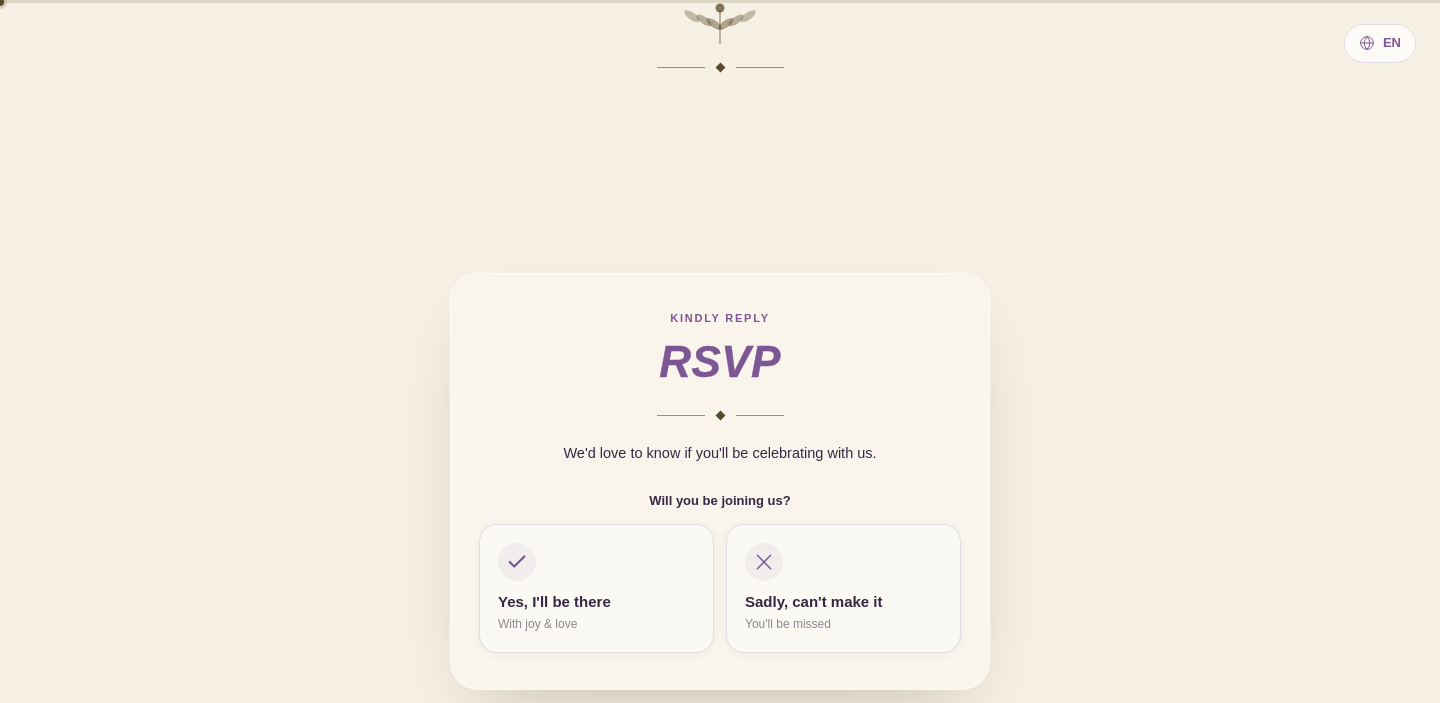
Scenario: the preview renders the real page › surfaces the organizer's own custom question once a guest answers
This screenshot has width=1440, height=703.
(page scrolled)
Click the radio button labelled "Yes, I'll be there With joy & love": (596, 589) [479, 524, 714, 653]
(page scrolled)
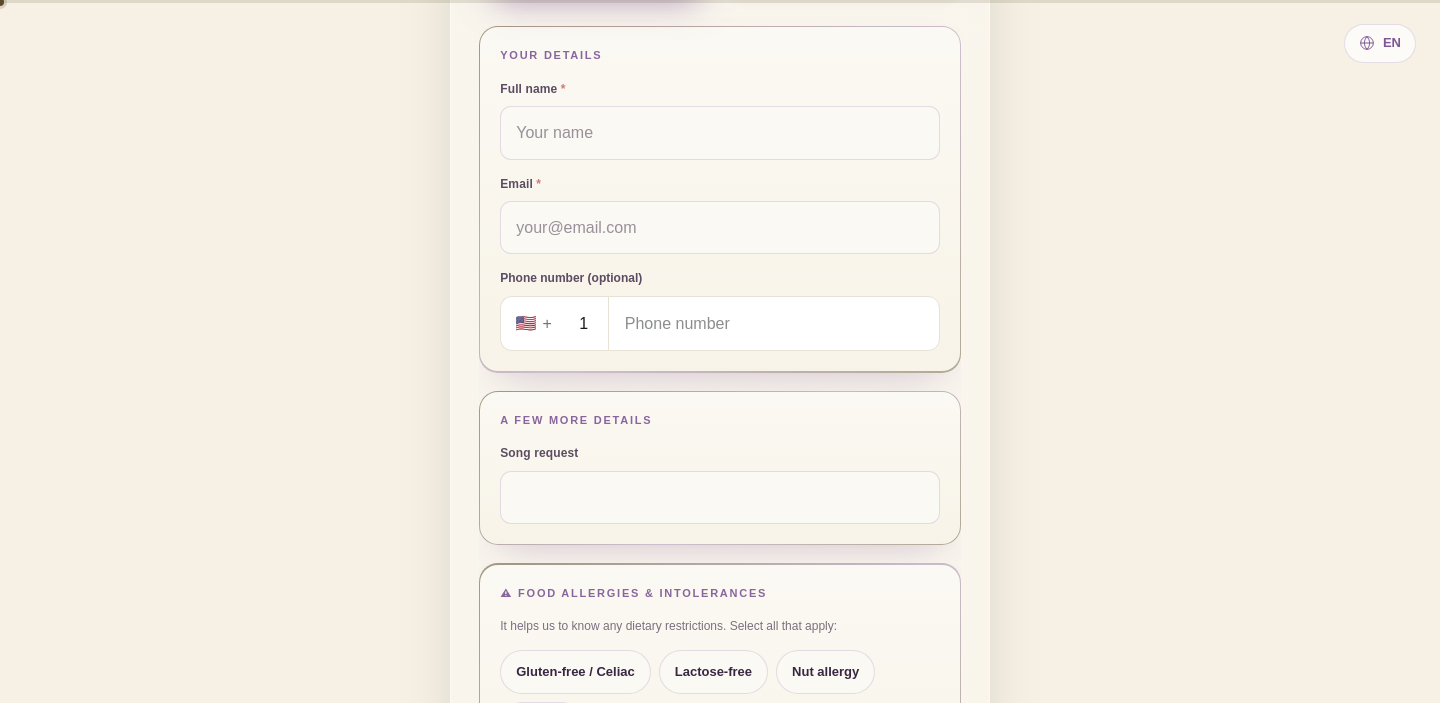
Expected: the text "Song request" is shown, [500, 446, 578, 460]
